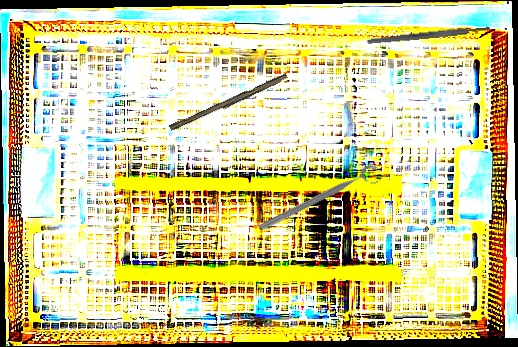Fixation Ring: (256, 162, 384, 241)
Scalpel Handle: (168, 71, 290, 135), (366, 25, 491, 45)
